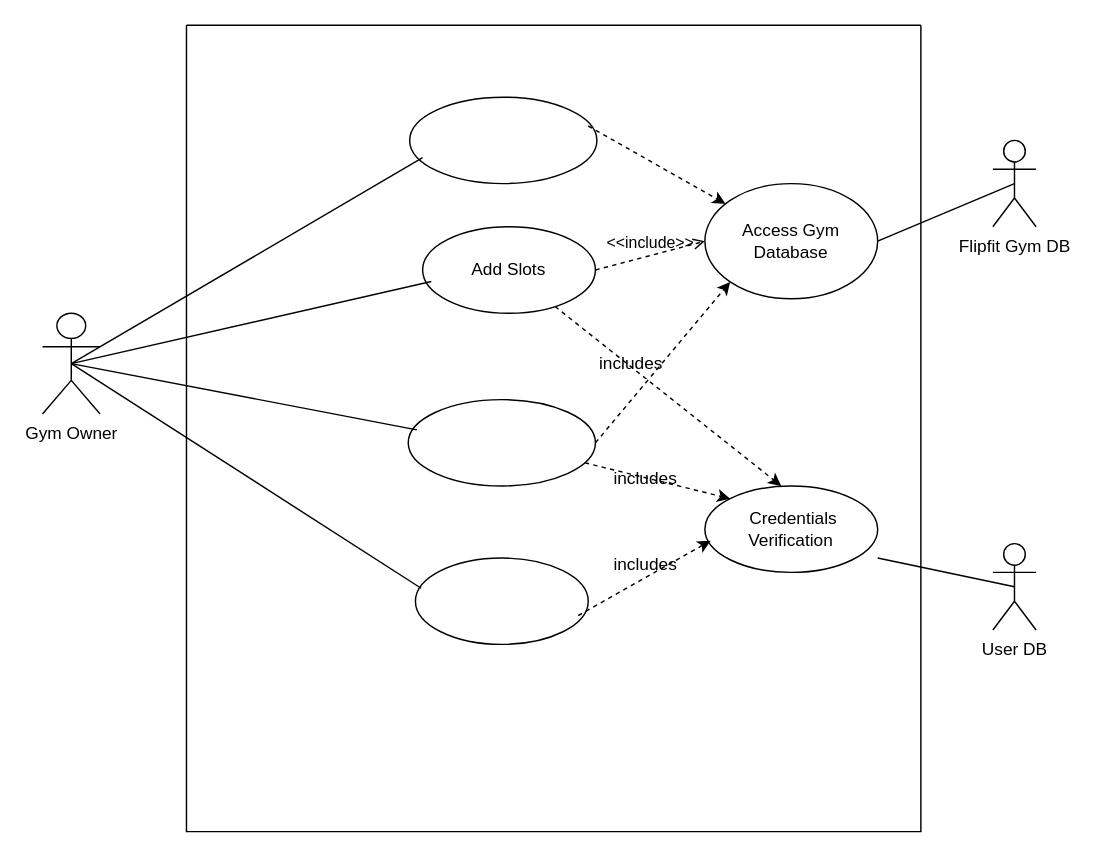
Image size: 1094x857. Some labels were removed from this diagram. Here are the shapes that lost their labels. From the top down, the centre of each, then its label:
At (x=502, y=140): "Gym Registration".
At (x=501, y=442): "Edit Slots".
At (x=501, y=600): "View Registered User".
